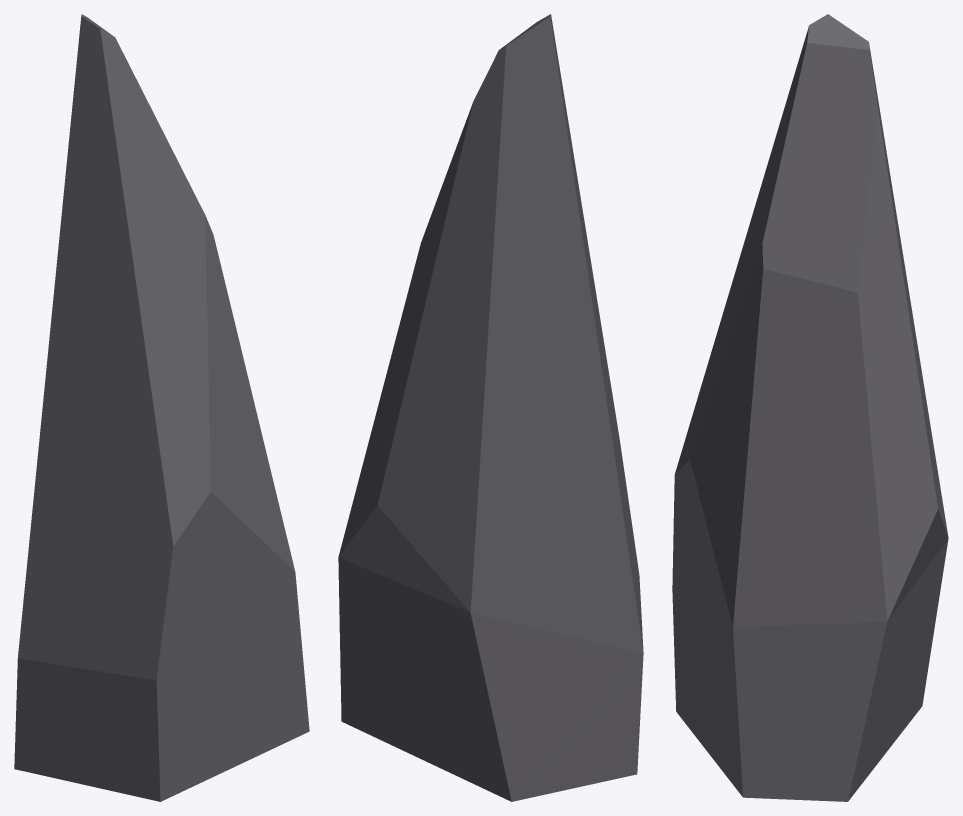
Rendered from Rock_Sharp_m_03.fbx.
3 views of the same model, side by side, from view 1: azimuth 30°, elevation 25°; view 2: azimuth 150°, elevation 25°; view 3: azimuth 270°, elevation 25° (orthographic). The views are drawn at different scales.
Visible parts, largest first — view 1: Rock_Sharp_m_03; view 2: Rock_Sharp_m_03; view 3: Rock_Sharp_m_03.
Boxes of the visible parts, left/top/right/bottom form: Rock_Sharp_m_03: left=14, top=14, right=309, bottom=801; Rock_Sharp_m_03: left=338, top=14, right=643, bottom=801; Rock_Sharp_m_03: left=672, top=14, right=948, bottom=801.
Size of the model in its own units: 76.43 by 196 by 70.49.
